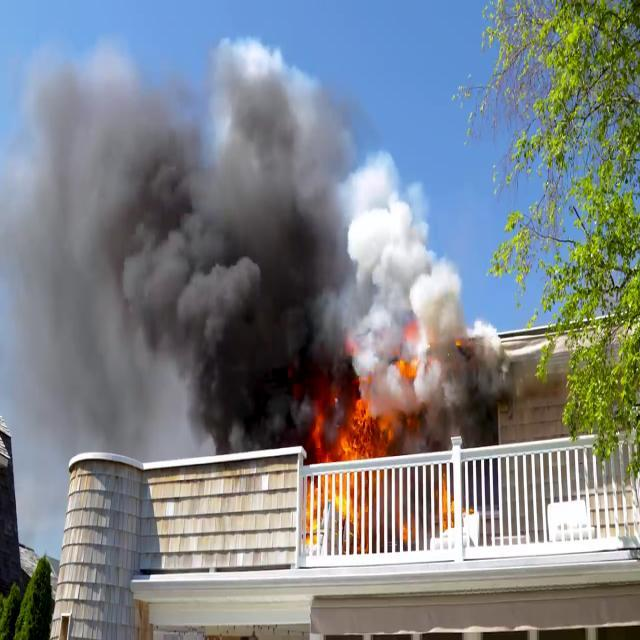Fire: (312, 368, 412, 512)
Smoke: (12, 38, 362, 462), (376, 248, 564, 474)
